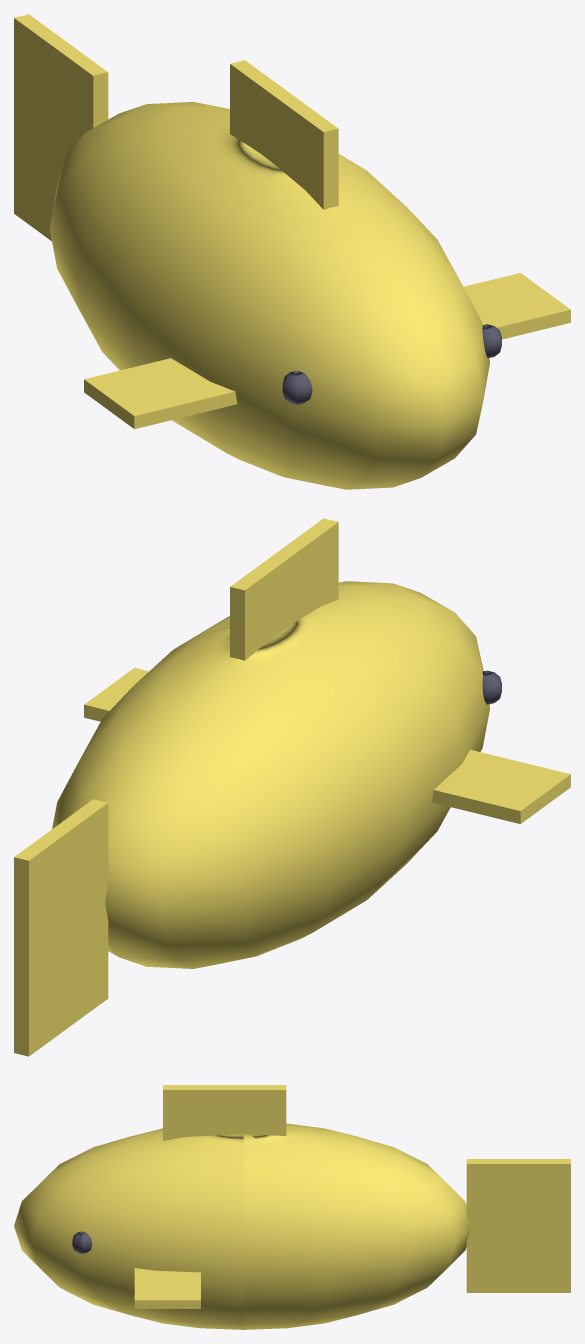
The model's file is 47735793-91a5-4792-aff3-54579cb9f917.glb.
3 renders of one model, top to bottom at view 1: azimuth 30°, elevation 25°; view 2: azimuth 150°, elevation 25°; view 3: azimuth 270°, elevation 25°, orthographic. The views are drawn at different scales.
Visible parts, largest first — view 1: Generated3DMesh; view 2: Generated3DMesh; view 3: Generated3DMesh.
Boxes of the visible parts, x1,y1,x2,y2 form: Generated3DMesh: (14,14,570,489); Generated3DMesh: (14,518,570,1056); Generated3DMesh: (14,1085,570,1329).
Size of the model in its own units: 1.75 by 1.36 by 2.94.
